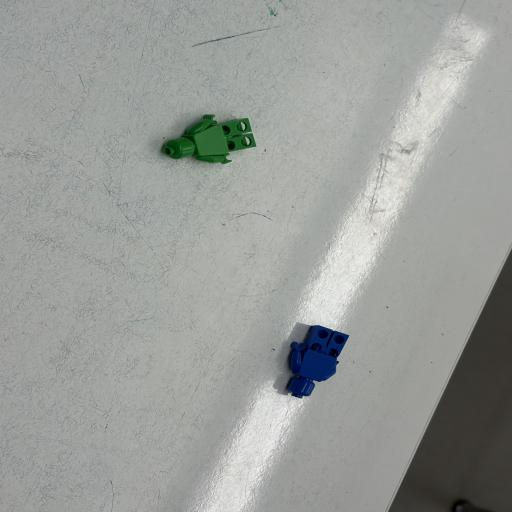Blue-Lego: (271, 322, 349, 398)
Green-Lego: (163, 115, 256, 164)
